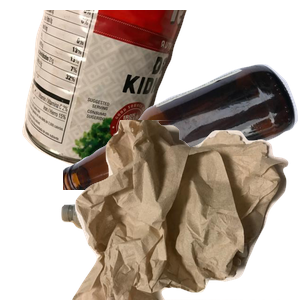glass: (63, 62, 300, 242)
metal: (20, 10, 199, 172)
plastic: (59, 193, 241, 300)
trash: (70, 120, 300, 300)
